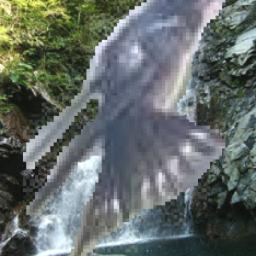Swallow: (24, 0, 231, 256)
